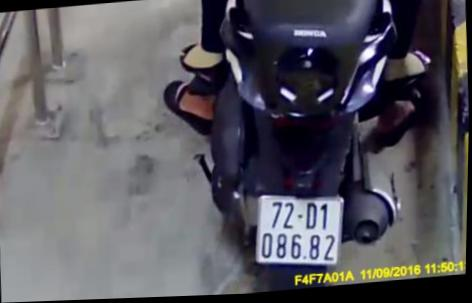LP: (253, 186, 350, 280)
